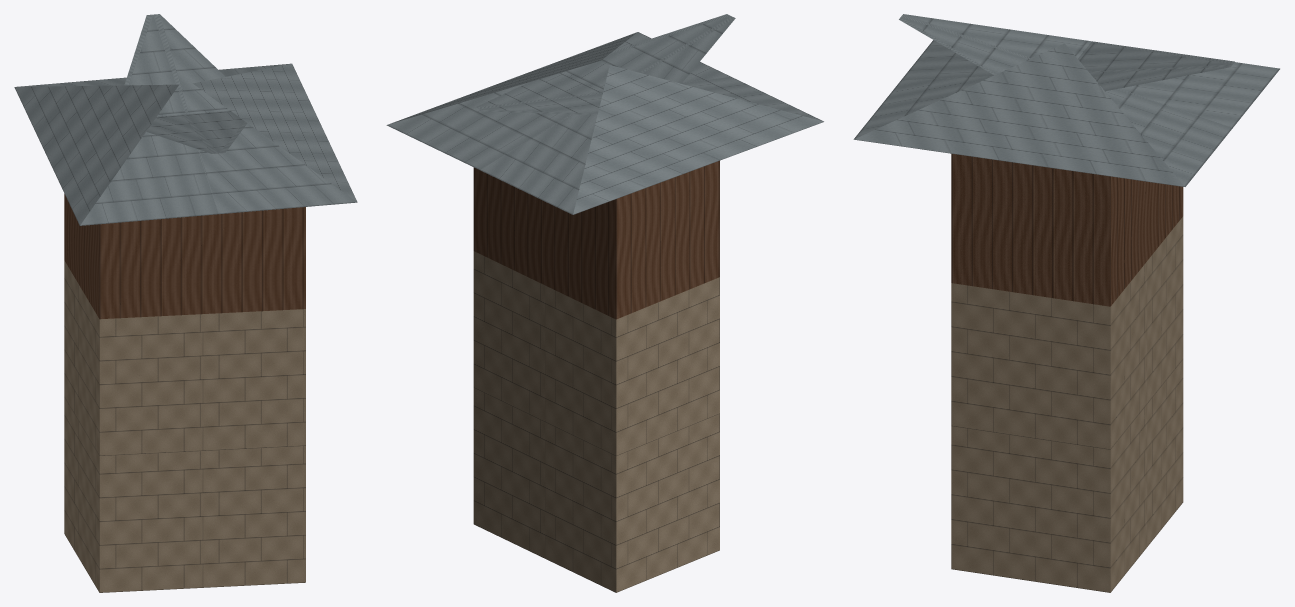
The model's file is bld_c21_-10_909.gltf.
3 renders of one model, left to right at view 1: azimuth 30°, elevation 25°; view 2: azimuth 150°, elevation 25°; view 3: azimuth 270°, elevation 25°, orthographic. The views are drawn at different scales.
Visible parts, largest first — view 1: bld_c21_-10_909; view 2: bld_c21_-10_909; view 3: bld_c21_-10_909.
Part boxes in pixels (<box>): bld_c21_-10_909: <box>14,14,357,592</box>; bld_c21_-10_909: <box>386,14,823,592</box>; bld_c21_-10_909: <box>853,14,1279,592</box>.
Size of the model in its own units: 5.61 by 7.8 by 6.09.
Materials: 3 (3 with a texture image).
